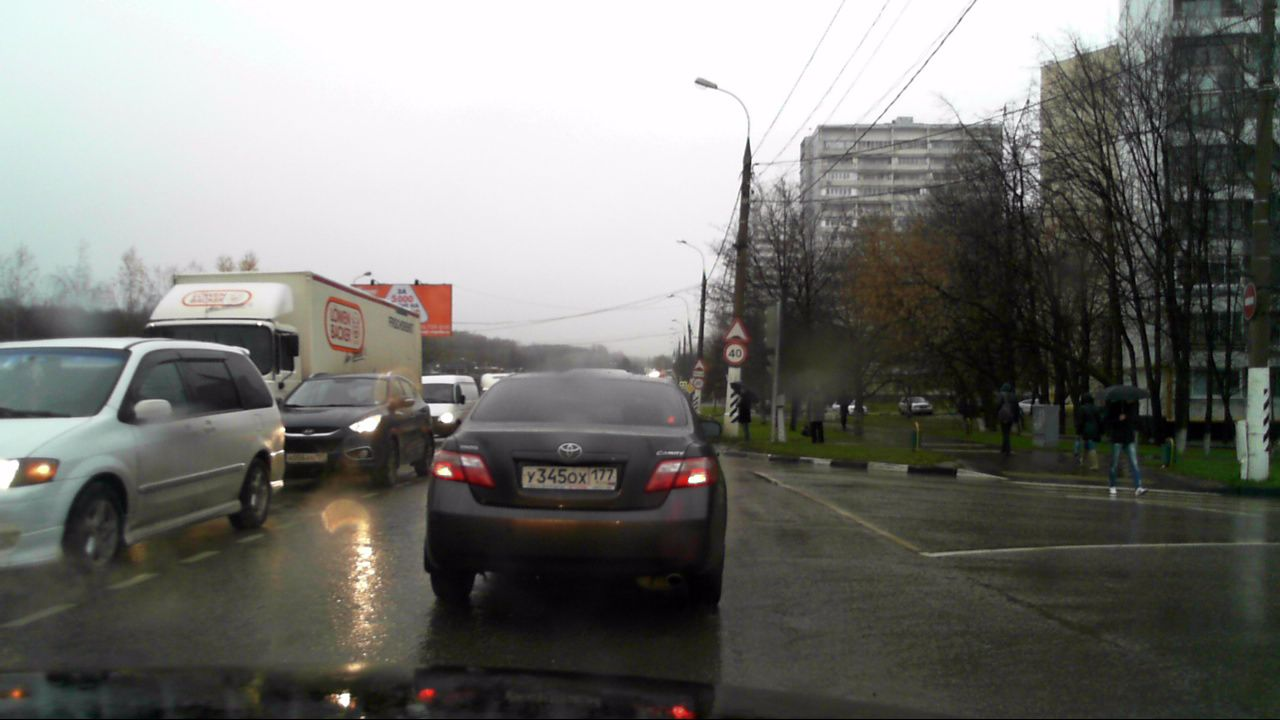speed_warning_40: (725, 343, 745, 362)
